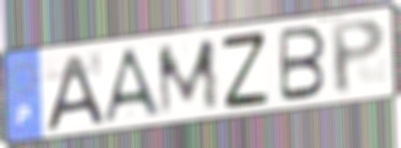A: (43, 51, 107, 134), (100, 45, 164, 126)
B: (277, 24, 328, 105)
M: (154, 36, 223, 120)
P: (328, 15, 389, 97)
Z: (219, 28, 272, 112)
